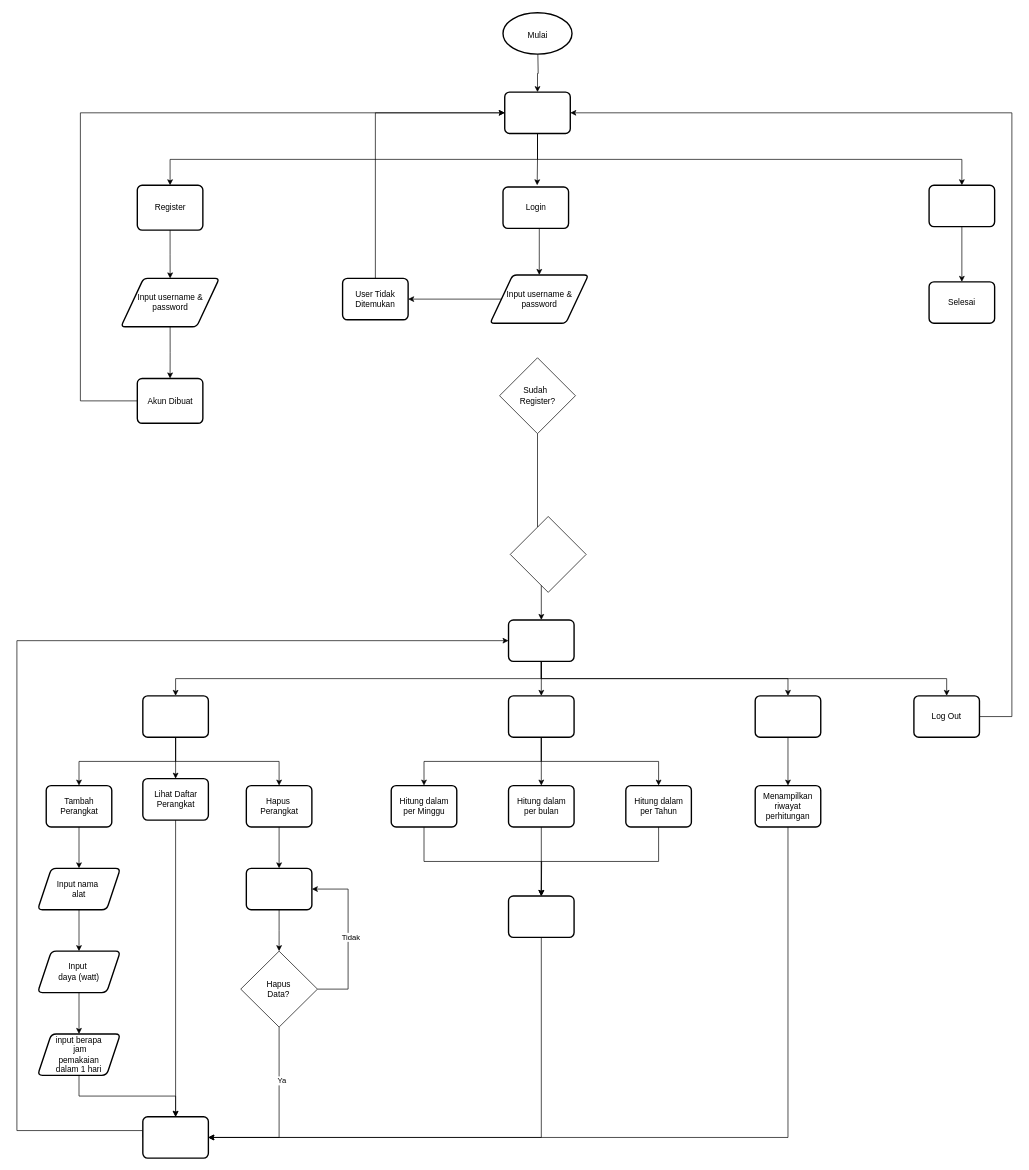
This 1029x1170 diagram has some shape labels left out. The centre of each missing label's shape, as x and y in pixels:
Daftar Perangkat: (x=175, y=716)
Exit: (x=961, y=205)
Login Berhasil?: (x=548, y=554)
Menampilkan Hasil Perhitungan: (x=540, y=916)
Menu Login: (x=537, y=112)
Menu Utama: (x=540, y=640)
Pilih Perangkat: (x=278, y=888)
Riwayat: (x=787, y=716)
Simpan Data: (x=175, y=1137)
Total Pemakaian Listrik: (x=540, y=716)
